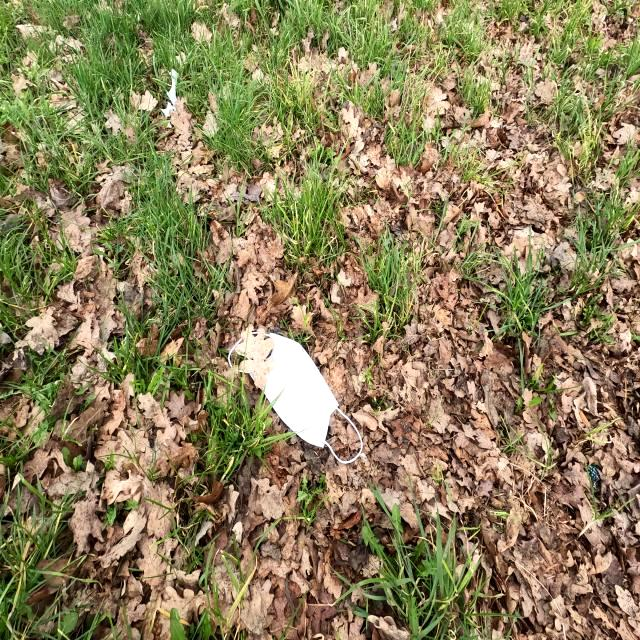Mask: (226, 313, 372, 477)
